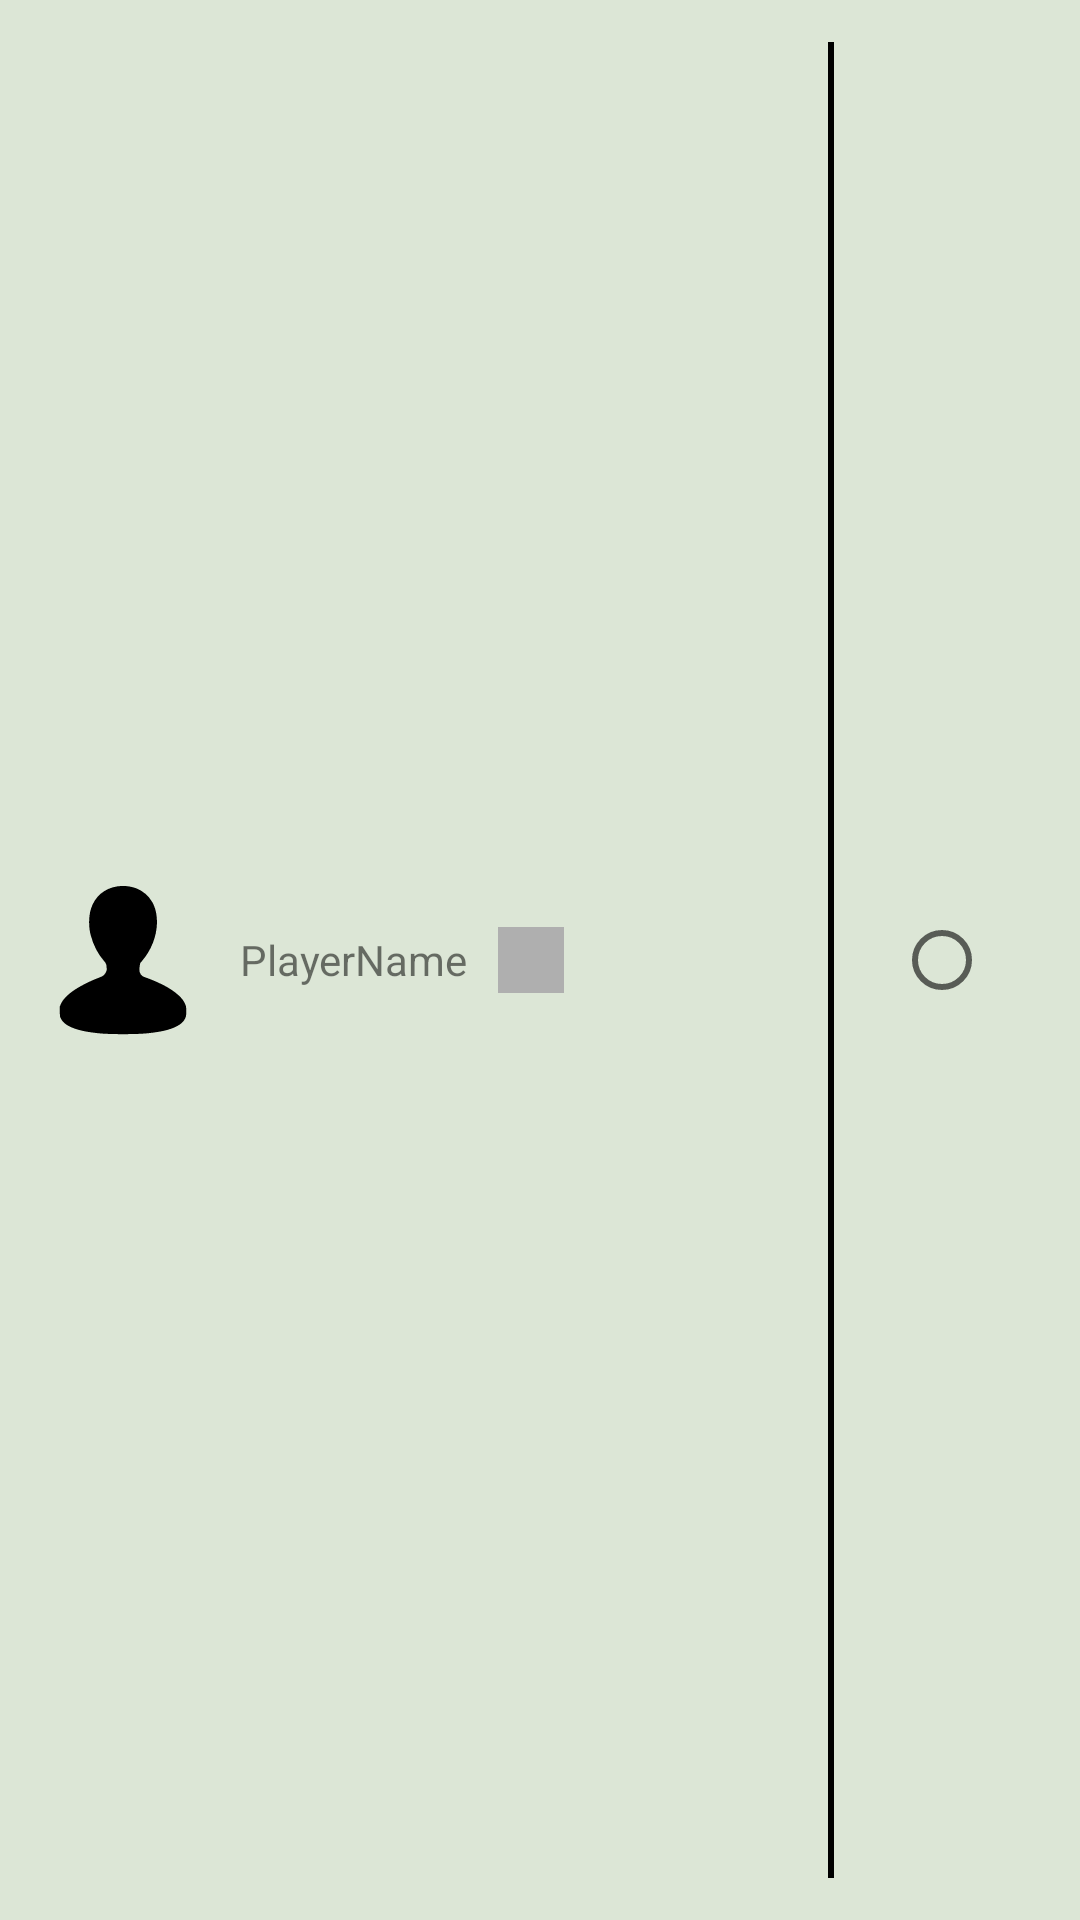

Icon click points for this 1080×1920 phone screenshot, format [x,y]:
Waiting…: [942,960]
